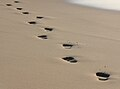human_foot_print: (6, 0, 29, 14), (95, 65, 110, 80), (13, 0, 29, 13), (27, 18, 43, 28), (15, 4, 31, 14), (6, 0, 22, 9), (27, 19, 41, 28), (61, 41, 78, 48), (96, 71, 109, 80), (40, 24, 55, 31), (5, 3, 22, 9), (62, 56, 77, 62), (62, 56, 76, 62), (40, 25, 54, 31), (35, 15, 55, 19), (14, 0, 22, 9), (62, 43, 73, 48), (37, 35, 47, 38), (44, 27, 53, 30), (14, 0, 20, 4), (6, 2, 12, 5), (28, 21, 36, 23), (36, 16, 43, 18), (22, 11, 29, 13), (6, 3, 12, 5), (16, 7, 22, 9), (14, 0, 19, 2)
